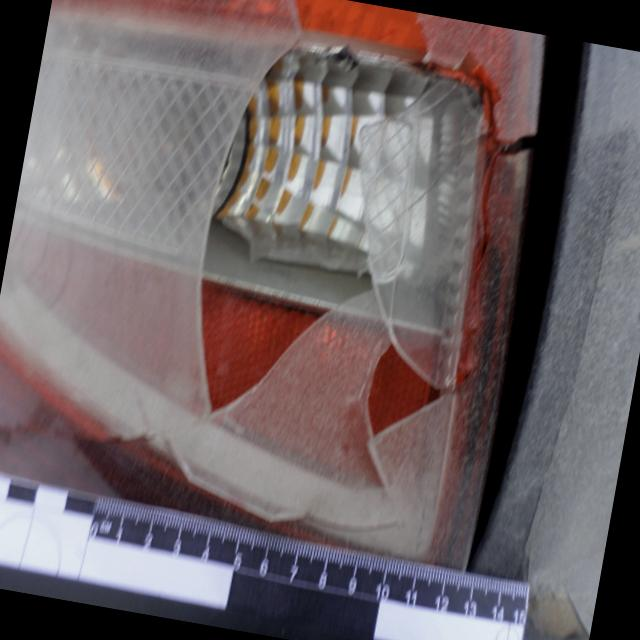Dechirure: (501, 475, 550, 577), (545, 577, 598, 640)
Rayure: (545, 171, 628, 467)
